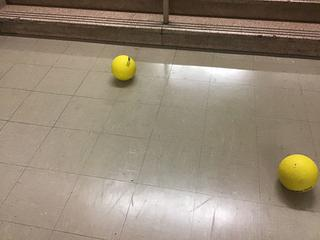power_cell: (278, 153, 320, 195), (111, 53, 140, 81)
